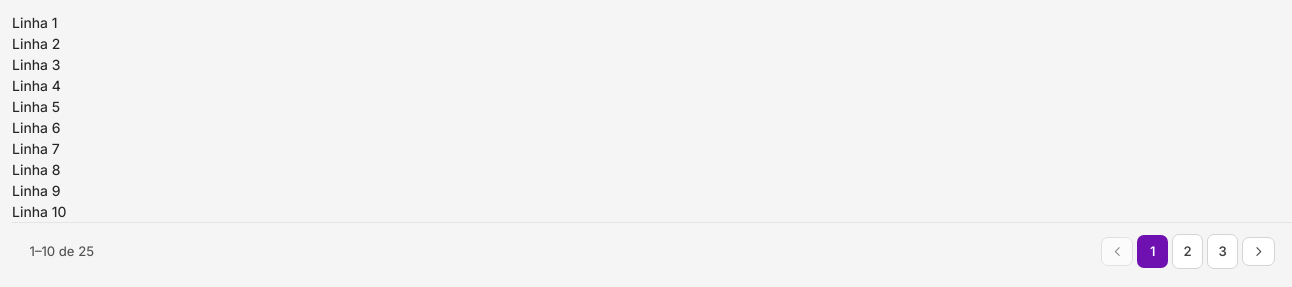
Test: paginação › mostra no máximo 10 por página e muda de página
This screenshot has width=1292, height=287.
Expected: the text "1–10 de 25" is shown, x1=30 y1=242 x2=94 y2=261
Click the button named "Página seguinte".
click(1258, 251)  # box x1=1242 y1=237 x2=1274 y2=266
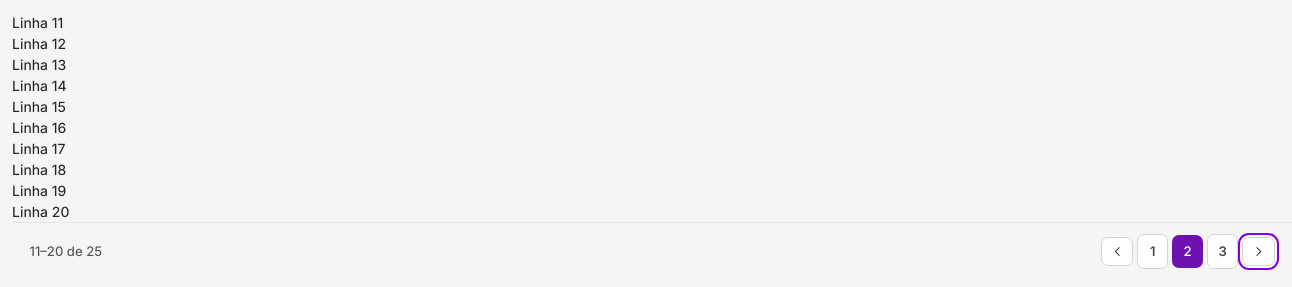
Now the list item "Linha 11" is shown, box x1=12 y1=14 x2=63 y2=31
Click the button "3".
click(1223, 251)  # box x1=1207 y1=234 x2=1238 y2=269
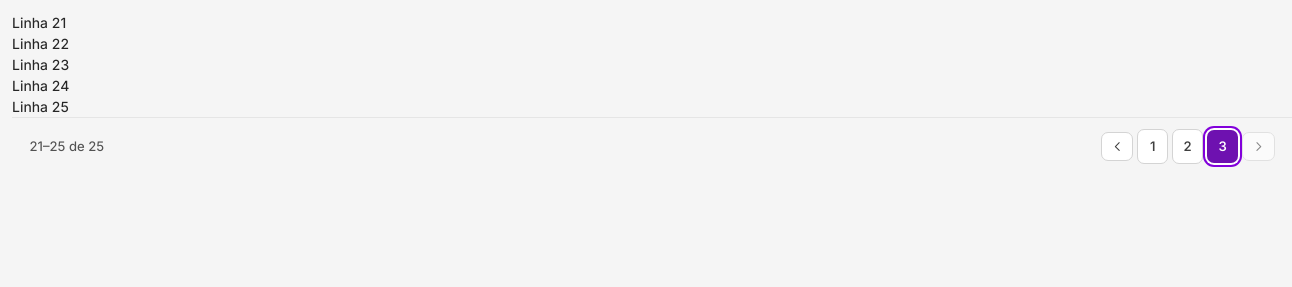
Now the number of list items is 5, box x1=12 y1=14 x2=66 y2=31; x1=12 y1=35 x2=69 y2=52; x1=12 y1=56 x2=69 y2=73; x1=12 y1=77 x2=69 y2=94; x1=12 y1=98 x2=69 y2=115
